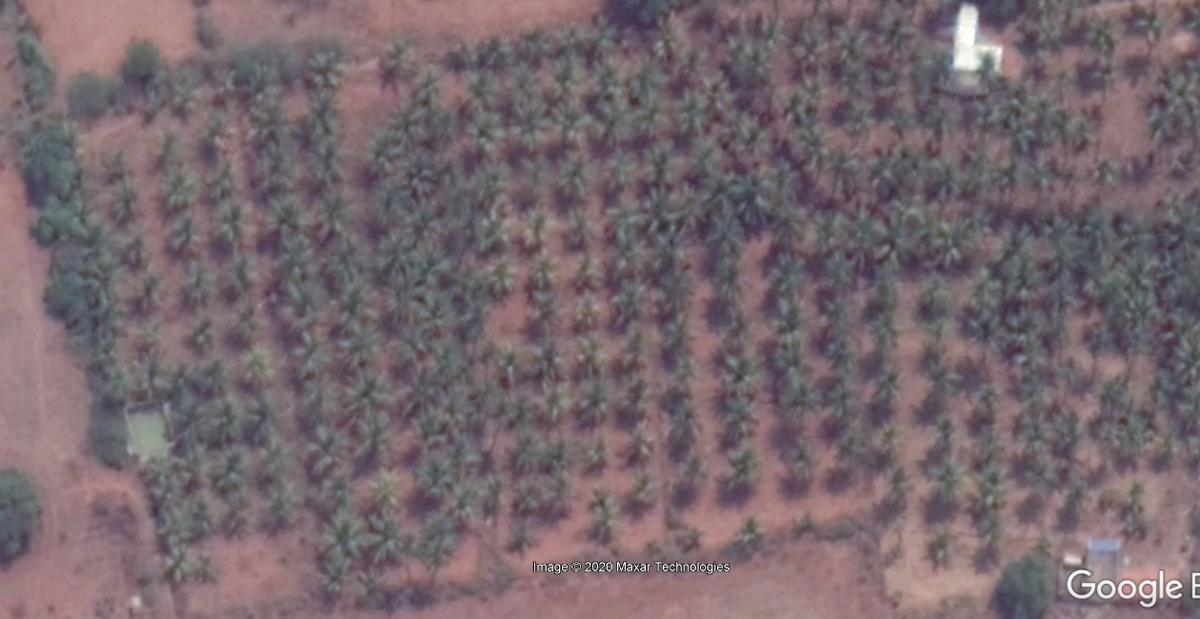coconut: (698, 210, 745, 263), (299, 424, 347, 474), (295, 135, 340, 188), (638, 138, 682, 192), (649, 222, 692, 277), (702, 339, 760, 379), (502, 101, 550, 149), (315, 514, 362, 562), (714, 391, 765, 433), (241, 395, 285, 443), (913, 325, 957, 373), (306, 196, 352, 241), (601, 279, 645, 326), (370, 35, 417, 79), (372, 235, 419, 279), (715, 450, 761, 493), (361, 513, 404, 559), (359, 129, 402, 175), (909, 379, 957, 420), (602, 215, 646, 259), (760, 286, 813, 322), (187, 359, 231, 402), (520, 251, 564, 294), (661, 405, 708, 445), (661, 469, 710, 507), (616, 428, 659, 471), (601, 152, 644, 195), (243, 79, 281, 127), (1076, 11, 1119, 53), (499, 436, 542, 478), (458, 113, 501, 155), (867, 367, 911, 408), (775, 447, 819, 488), (300, 88, 342, 130), (414, 521, 457, 562), (816, 247, 856, 290), (657, 311, 697, 354), (863, 321, 902, 365), (531, 381, 577, 418), (958, 299, 1000, 339), (869, 477, 908, 520), (407, 68, 446, 111), (256, 480, 299, 519), (354, 418, 398, 456), (773, 366, 812, 408), (612, 373, 651, 415), (362, 185, 401, 227), (966, 529, 1004, 572), (554, 17, 592, 60), (413, 454, 459, 489), (760, 240, 800, 280), (348, 558, 387, 599), (222, 484, 261, 525), (309, 559, 343, 606), (917, 437, 954, 480), (480, 255, 516, 299), (1059, 108, 1100, 146), (727, 517, 765, 558), (623, 475, 661, 516), (208, 448, 246, 489), (582, 483, 624, 520), (505, 477, 542, 519), (464, 441, 501, 483), (1145, 219, 1188, 255), (503, 57, 542, 96), (1125, 5, 1163, 45), (613, 323, 653, 361), (554, 103, 594, 141), (158, 408, 200, 444), (767, 326, 807, 363), (543, 481, 579, 522), (963, 379, 998, 421), (237, 348, 276, 385), (706, 277, 743, 316), (865, 268, 901, 308), (916, 277, 952, 316), (248, 447, 287, 483), (523, 199, 557, 240), (826, 450, 864, 486), (1080, 58, 1119, 93), (926, 530, 960, 570), (196, 402, 232, 439), (502, 517, 540, 552), (201, 160, 236, 198), (473, 211, 509, 247), (557, 155, 592, 192), (920, 487, 954, 525), (820, 402, 858, 436), (557, 205, 595, 239), (561, 252, 600, 285), (596, 19, 629, 58), (158, 174, 197, 207), (457, 68, 497, 100), (821, 332, 857, 367), (572, 336, 608, 371), (189, 546, 225, 581), (185, 318, 219, 355), (566, 296, 603, 330), (964, 483, 1004, 514), (157, 548, 187, 589), (576, 378, 608, 416), (167, 85, 202, 119), (122, 240, 153, 278), (967, 430, 1000, 465), (574, 437, 613, 466), (144, 373, 178, 406), (869, 422, 902, 456), (100, 148, 136, 179), (132, 324, 161, 361), (110, 186, 141, 219), (520, 321, 553, 351), (675, 522, 702, 558), (544, 434, 569, 470), (1175, 3, 1198, 42), (133, 277, 160, 310)
